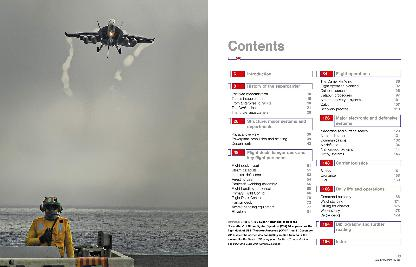F15: (65, 18, 155, 57)
